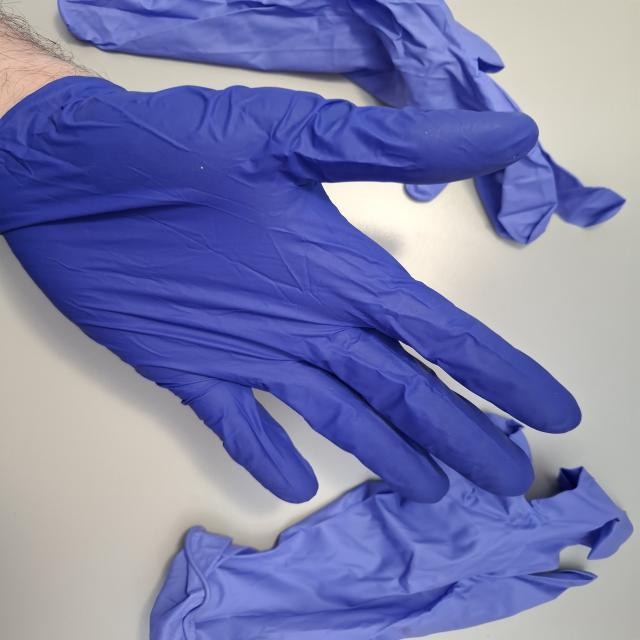glove_on: (0, 66, 585, 507)
